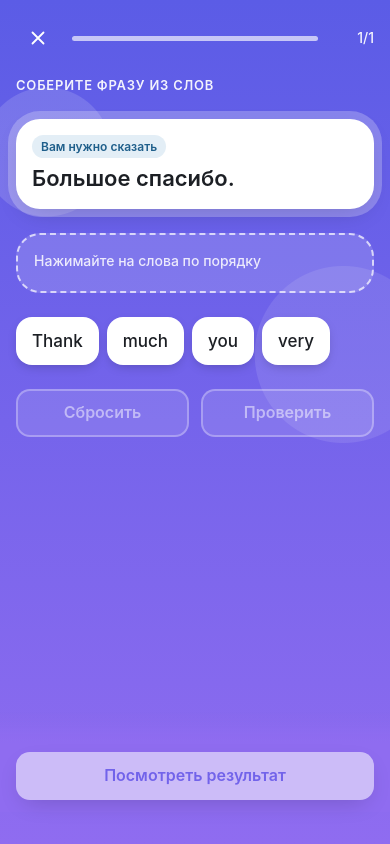
ExerciseRunner › сборка фразы: плитки в правильном порядке засчитываются
Expected: the text "Соберите фразу из слов" is shown, [16,77,214,93]
Click the button "Thank".
click(57, 341)  # box [16,317,99,365]
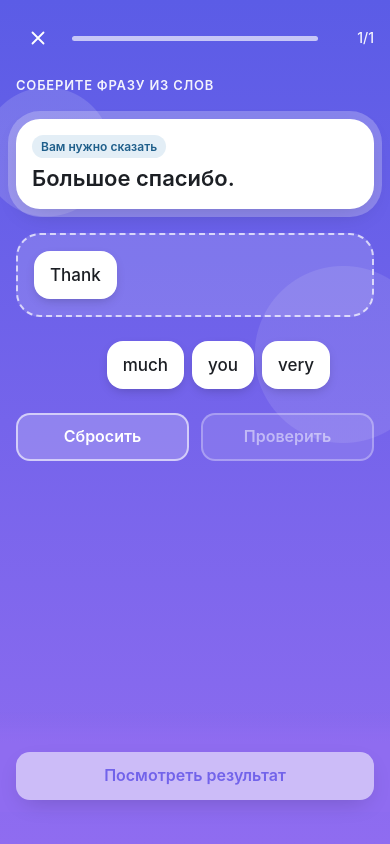
Click the button "you".
click(223, 365)  # box [192,341,254,389]
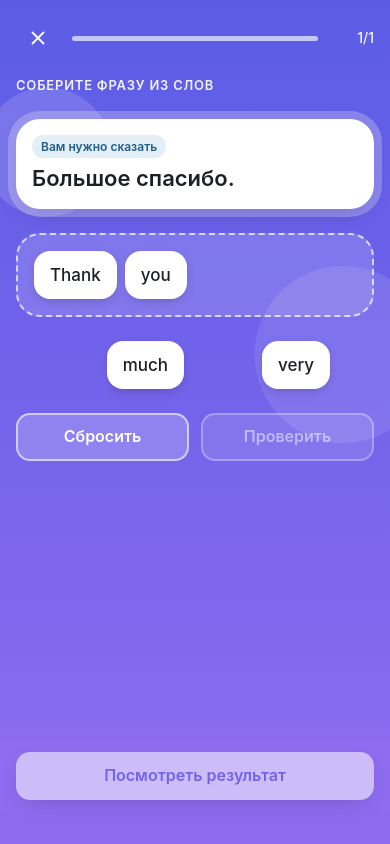
Click the button "very".
click(296, 365)  # box [262,341,330,389]
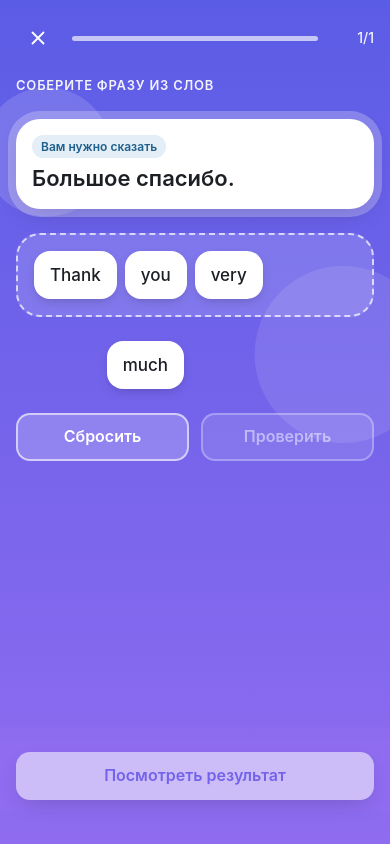
Click the button "much".
click(145, 365)  # box [107,341,184,389]
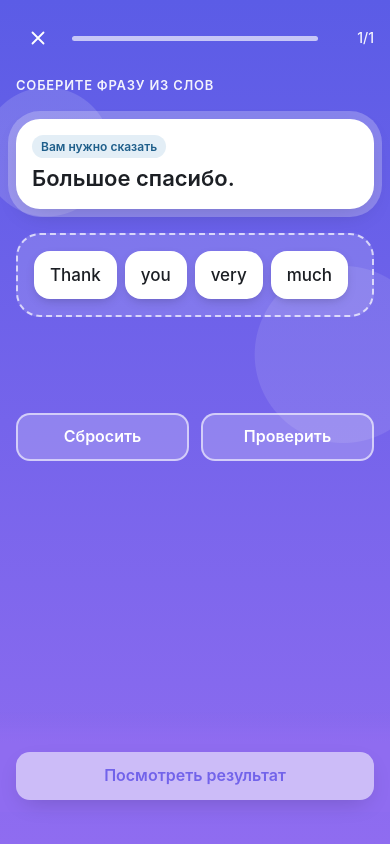
Click the button "Проверить".
click(288, 437)  # box [201,413,374,461]
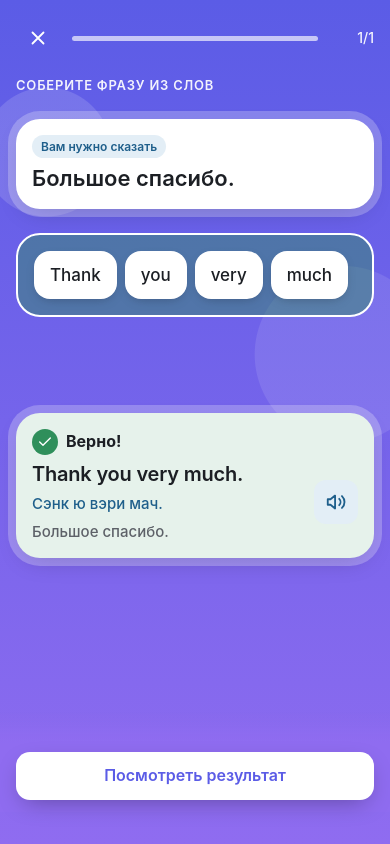
Result: the text "Верно!" is shown at [32,429,121,455]
